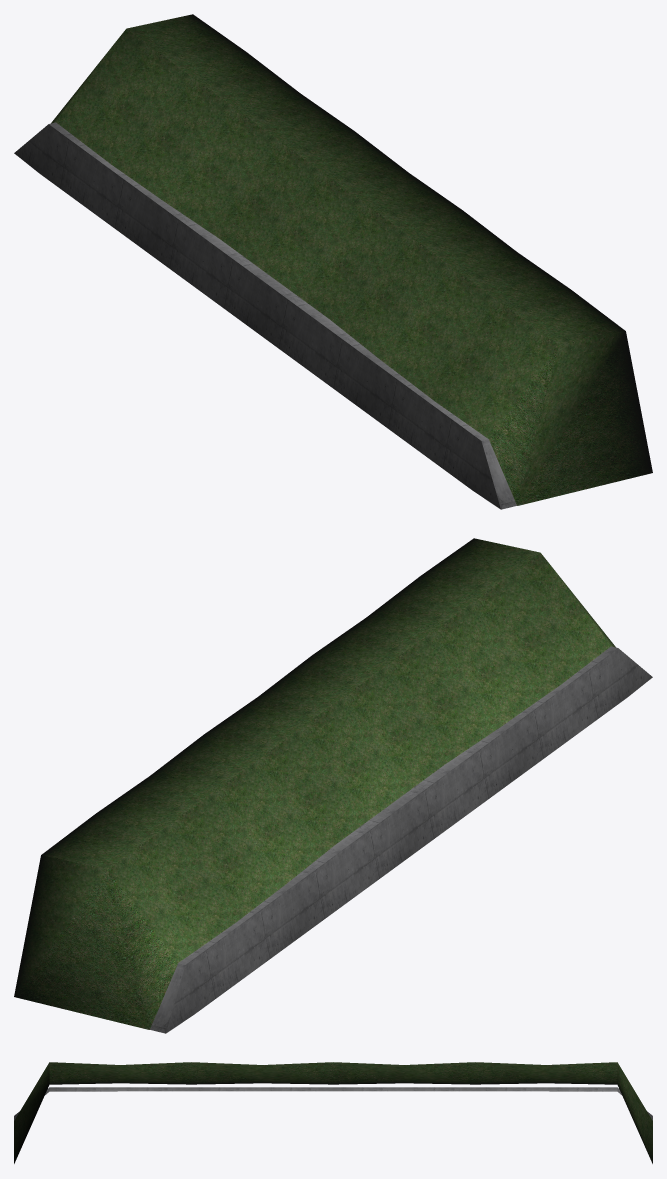
The model's file is DOTE_LEFT.glb.
The picture shows the model from 3 angles, top to bottom: view 1: azimuth 30°, elevation 25°; view 2: azimuth 150°, elevation 25°; view 3: azimuth 270°, elevation 25°; orthographic projection. The views are drawn at different scales.
Parts seen in each view (by area): view 1: obj59; view 2: obj59; view 3: obj59.
Boxes of the visible parts, box(x1,y1,x2,y2) form: obj59: box(14, 14, 652, 509); obj59: box(14, 538, 652, 1033); obj59: box(14, 1062, 652, 1163).
Size of the model in its own units: 20.49 by 15.8 by 112.
Materials: 2 (2 with a texture image).
